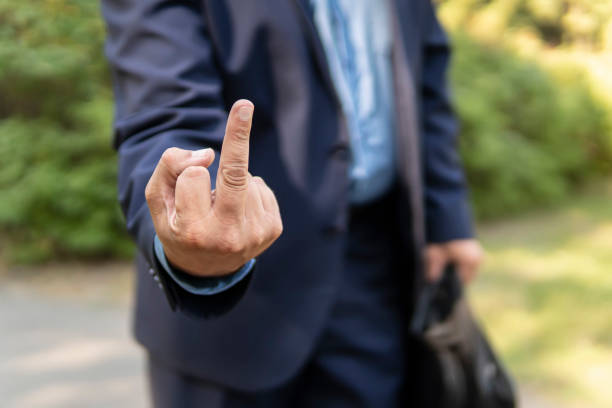insulting_gesture: (142, 96, 282, 283)
